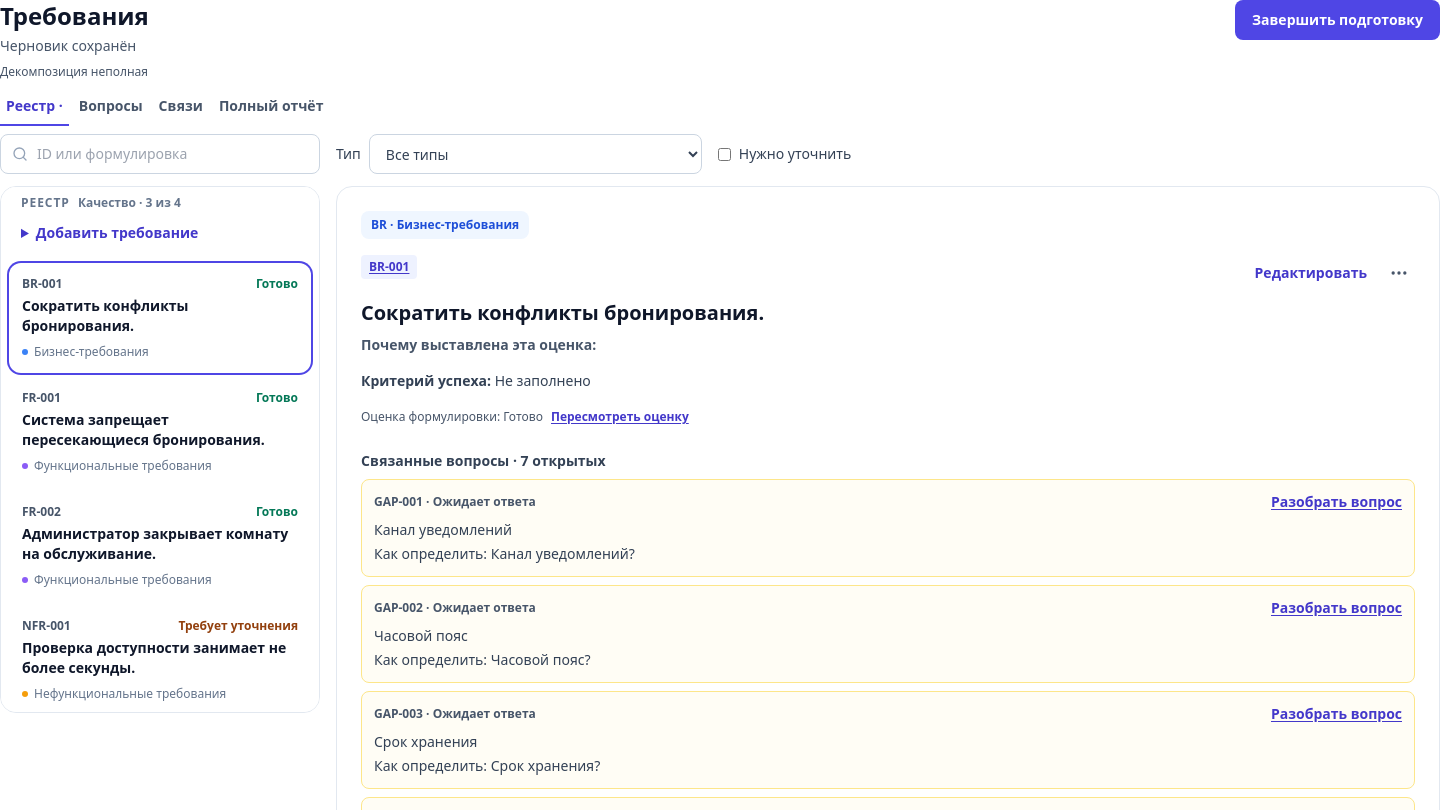
Test case: question reasons are visible once and open the common workspace
Expected: the text "Канал уведомлений" is shown once, [374, 520, 512, 539]
Click the button "Разобрать вопрос" in the row of "GAP-001". click: coordinates (1336, 502)
box: [1271, 492, 1402, 512]
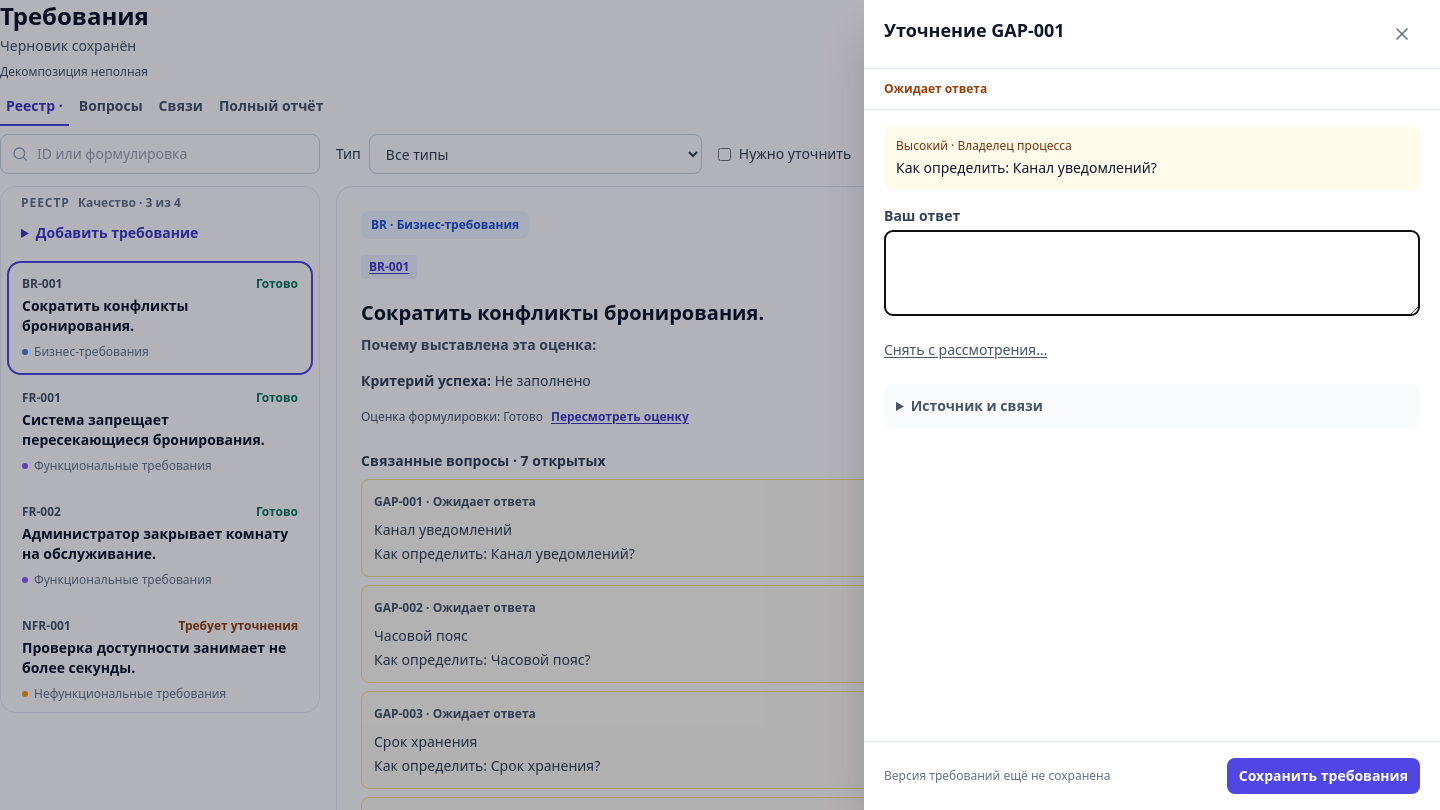
Result: the dialog "Уточнение GAP-001" shows "Канал уведомлений" at [896, 158, 1157, 177]
Result: the text box named "Ответ на GAP-001" is shown at [884, 230, 1420, 316]
